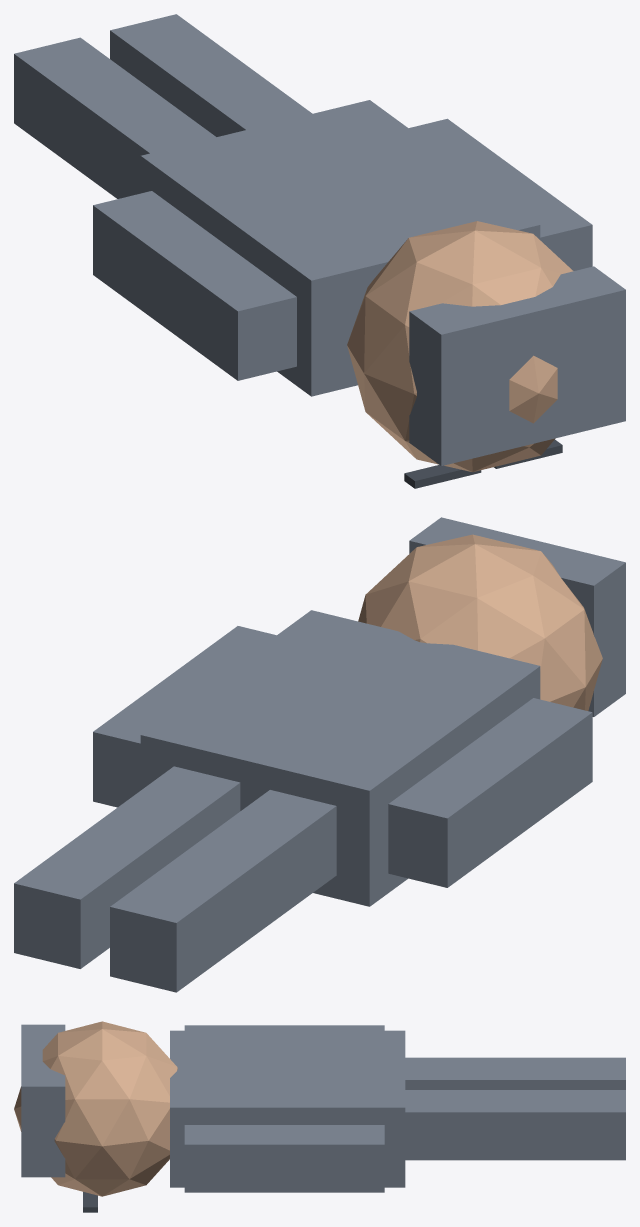
Rendered from engineer_variant_3.glb.
The picture shows the model from 3 angles, top to bottom: view 1: azimuth 30°, elevation 25°; view 2: azimuth 150°, elevation 25°; view 3: azimuth 270°, elevation 25°; orthographic projection. The views are drawn at different scales.
Parts seen in each view (by area): view 1: torso_2, hair_6, head_5, arm_l_3, leg_l_0, leg_r_1, arm_r_4, glasses_l_7; view 2: torso_2, leg_l_0, head_5, arm_l_3, leg_r_1, arm_r_4, hair_6; view 3: torso_2, head_5, leg_r_1, arm_r_4, leg_l_0, hair_6, arm_l_3, glasses_r_8.
Part boxes in pixels (x1,y1,x2,y2): torso_2: (140, 100, 540, 396); hair_6: (409, 266, 625, 466); head_5: (347, 221, 573, 472); arm_l_3: (93, 191, 296, 380); leg_l_0: (14, 37, 216, 198); leg_r_1: (110, 14, 312, 136); arm_r_4: (409, 118, 592, 270); glasses_l_7: (404, 465, 481, 488); torso_2: (140, 610, 540, 906); leg_l_0: (110, 790, 336, 992); head_5: (358, 534, 602, 710); arm_l_3: (388, 698, 592, 887); leg_r_1: (14, 766, 240, 968); arm_r_4: (93, 626, 276, 807); hair_6: (409, 517, 625, 716); torso_2: (170, 1030, 405, 1187); head_5: (14, 1021, 177, 1196); leg_r_1: (405, 1090, 625, 1160); arm_r_4: (184, 1125, 384, 1192); leg_l_0: (405, 1057, 625, 1089); hair_6: (21, 1024, 65, 1177); arm_l_3: (184, 1025, 384, 1030); glasses_r_8: (83, 1192, 97, 1212).
Bounding box in the file's own units: 0.96 × 0.6 × 2.08.
